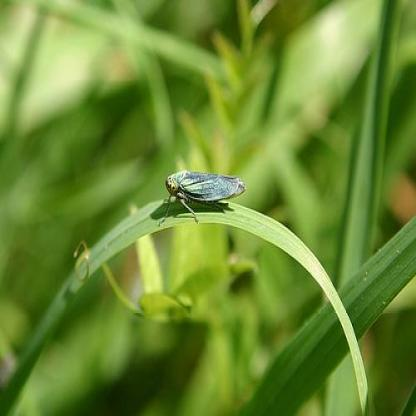Green-Leafhopper: (160, 166, 248, 221)
